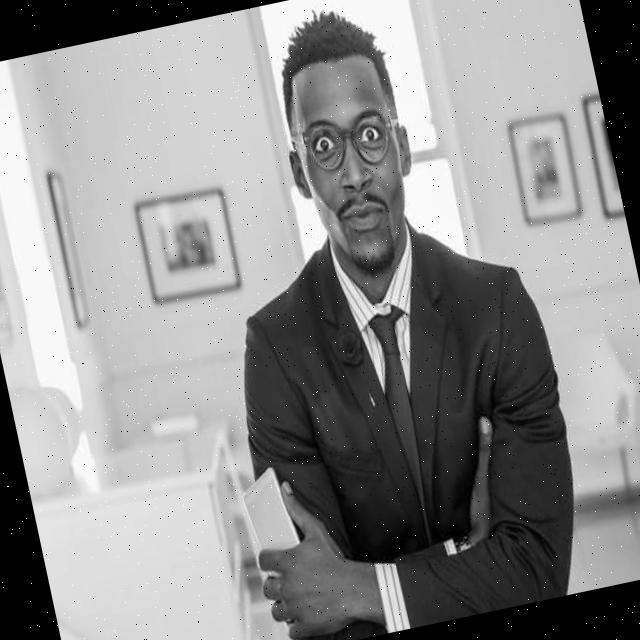Surprised: (279, 50, 422, 282)
